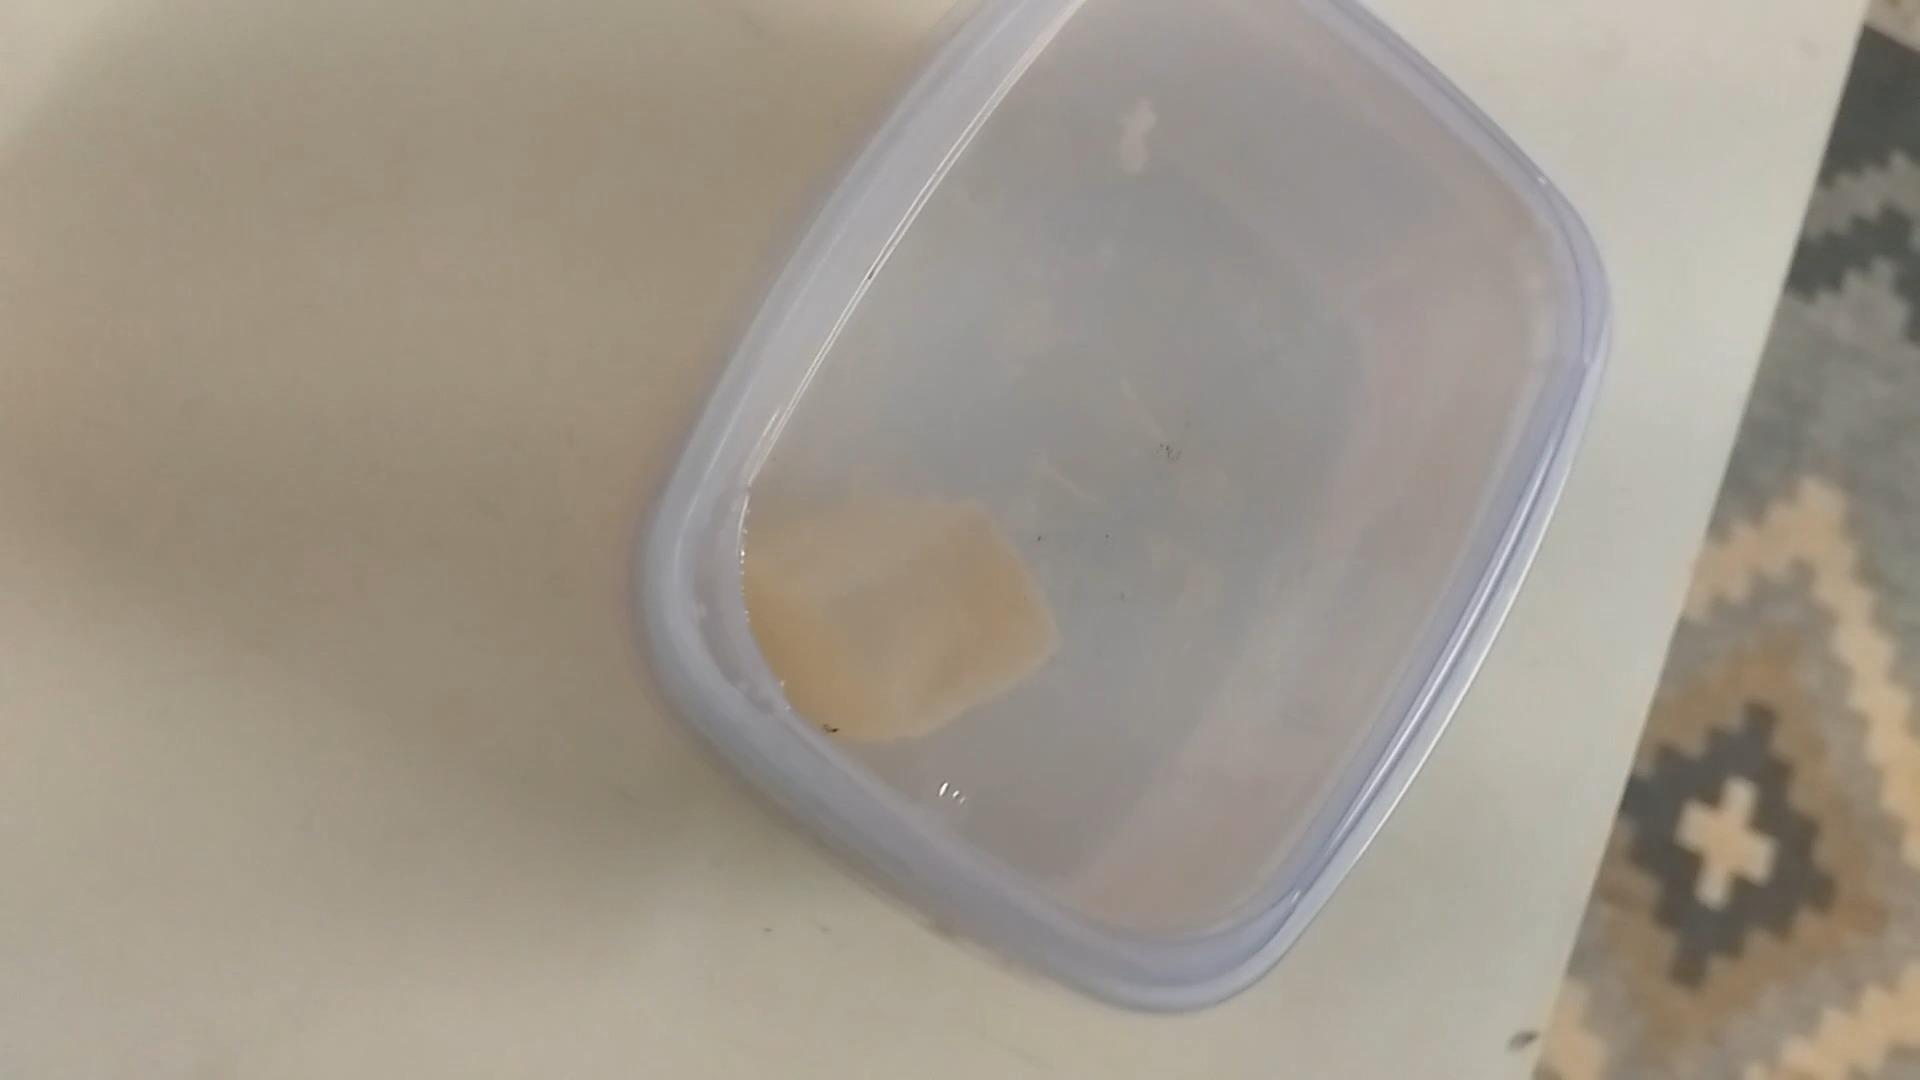butter: (630, 3, 1592, 1014)
